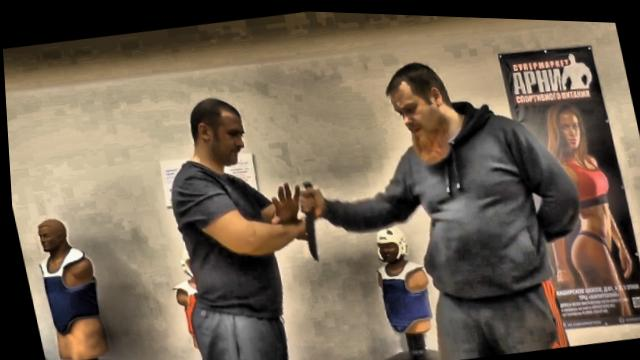knife: (288, 174, 329, 262)
